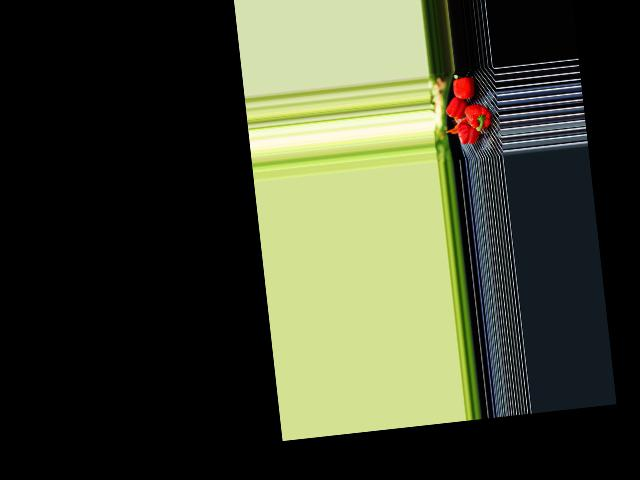bell_pepper: (455, 118, 479, 146)
